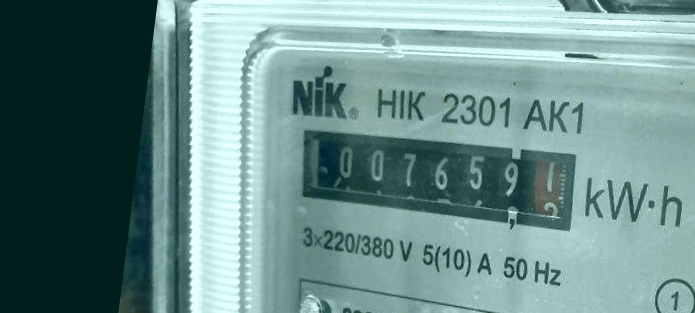0: (364, 144, 389, 186), (333, 142, 358, 182)
1: (537, 157, 561, 196)
5: (462, 151, 489, 194)
6: (427, 151, 454, 194)
7: (395, 148, 422, 189)
9: (497, 158, 523, 200)
screen: (285, 113, 586, 241)
